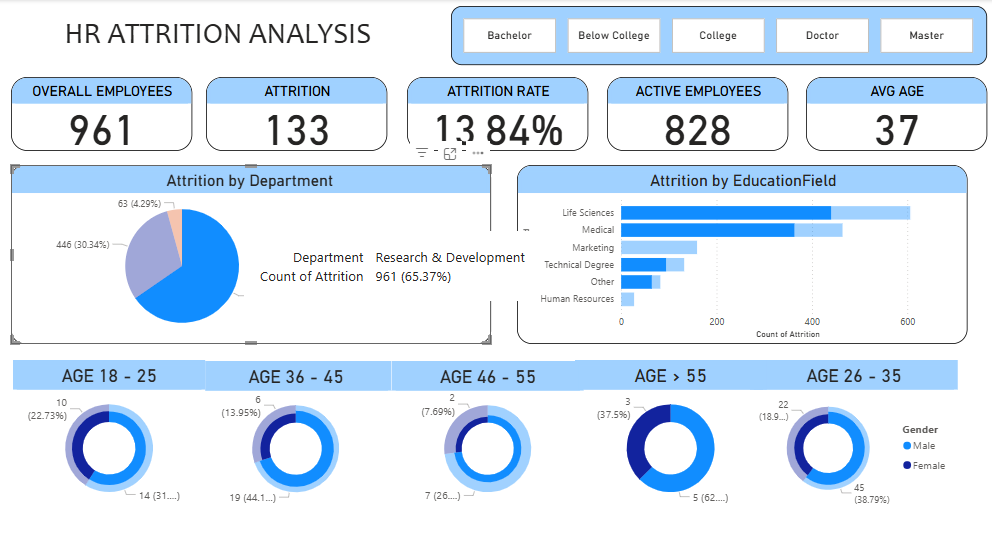

What the dashboard file says about the page in this screenshot:
{"tool":"powerbi","page":{"name":"TIKTOKINSPIRED","canvas":[1280,720],"ordinal":3},"visuals":[{"type":"advancedSlicerVisual","fields":{"Values":["EmployeeTable.Education Level"]},"box":[581.2,8.8,688.8,76.2],"z":0},{"type":"card","title":"OVERALL EMPLOYEES","fields":{"Values":["CountNonNull(EmployeeTable.EmployeeCount)"]},"box":[15,100,232.5,95],"z":1000},{"type":"card","title":"ATTRITION","fields":{"Values":["EmployeeTable.Attrition Count"]},"box":[266.2,100,232.5,95],"z":2000},{"type":"card","title":"ATTRITION RATE","fields":{"Values":["EmployeeTable.Attrition Rate"]},"box":[523.8,100,232.5,95],"z":3000},{"type":"card","title":"ACTIVE EMPLOYEES","fields":{"Values":["EmployeeTable.Active Employees"]},"box":[781.2,100,232.5,95],"z":4000},{"type":"card","title":"AVG AGE","fields":{"Values":["EmployeeTable.Average Age"]},"box":[1037.5,100,232.5,95],"z":5000},{"type":"pieChart","title":"Attrition by Department","fields":{"Category":["EmployeeTable.Department"],"Y":["CountNonNull(EmployeeTable.Attrition)"]},"box":[15.2,213.4,616.8,229.8],"z":6000},{"type":"barChart","title":"Attrition by EducationField","fields":{"Category":["EmployeeTable.EducationField"],"Y":["CountNonNull(EmployeeTable.Attrition)"]},"box":[666.1,213.4,579.3,229.8],"z":7000},{"type":"donutChart","title":"36 - 45","fields":{"Category":["EmployeeTable.Gender"],"Y":["EmployeeTable.Attrition Count"]},"box":[258.4,464.8,246.4,193.1],"z":8000},{"type":"donutChart","title":"46 - 55","fields":{"Category":["EmployeeTable.Gender"],"Y":["EmployeeTable.Attrition Count"]},"box":[504.8,464.8,246.4,193.1],"z":9000},{"type":"donutChart","title":"18 - 25","fields":{"Category":["EmployeeTable.Gender"],"Y":["EmployeeTable.Attrition Count"]},"box":[18.6,464.3,247.1,194.3],"z":10000},{"type":"donutChart","title":"26 - 35","fields":{"Category":["EmployeeTable.Gender"],"Y":["EmployeeTable.Attrition Count"]},"box":[965.7,464.3,267.1,194.3],"z":11000},{"type":"donutChart","title":"55","fields":{"Category":["EmployeeTable.Gender"],"Y":["EmployeeTable.Attrition Count"]},"box":[740,464.3,245.7,194.3],"z":12000},{"type":"textbox","box":[14.7,9.3,534.1,75.9],"z":13000}]}

Visuals, with their boxes in screenshot pixels (x1, y1, x2, y2), scaled from the page's 1280x720 canvas onto the 992x552 screenshot:
advancedSlicerVisual - EmployeeTable.Education Level: crop(450, 7, 984, 65)
"OVERALL EMPLOYEES" card: crop(12, 77, 192, 150)
"ATTRITION" card: crop(206, 77, 386, 150)
"ATTRITION RATE" card: crop(406, 77, 586, 150)
"ACTIVE EMPLOYEES" card: crop(605, 77, 786, 150)
"AVG AGE" card: crop(804, 77, 984, 150)
"Attrition by Department" pieChart: crop(12, 164, 490, 340)
"Attrition by EducationField" barChart: crop(516, 164, 965, 340)
"36 - 45" donutChart: crop(200, 356, 391, 504)
"46 - 55" donutChart: crop(391, 356, 582, 504)
"18 - 25" donutChart: crop(14, 356, 206, 505)
"26 - 35" donutChart: crop(748, 356, 955, 505)
"55" donutChart: crop(574, 356, 764, 505)
textbox: crop(11, 7, 425, 65)
